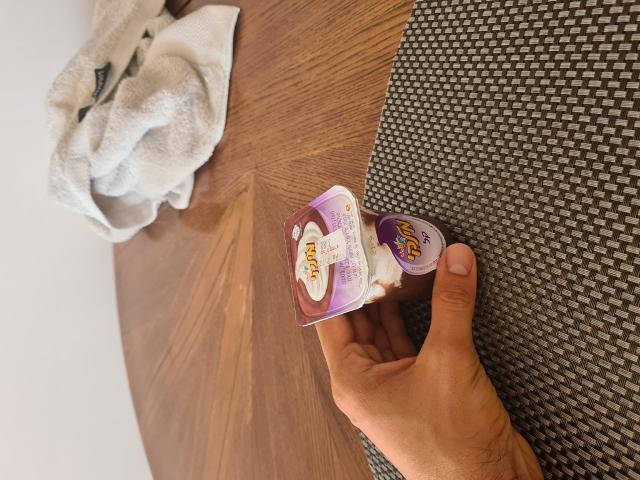milky: (283, 184, 454, 328)
